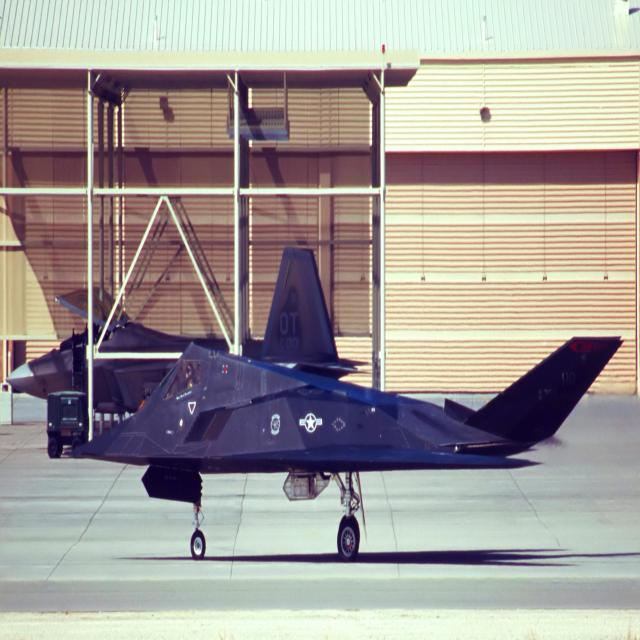F117: (77, 258, 623, 578)
